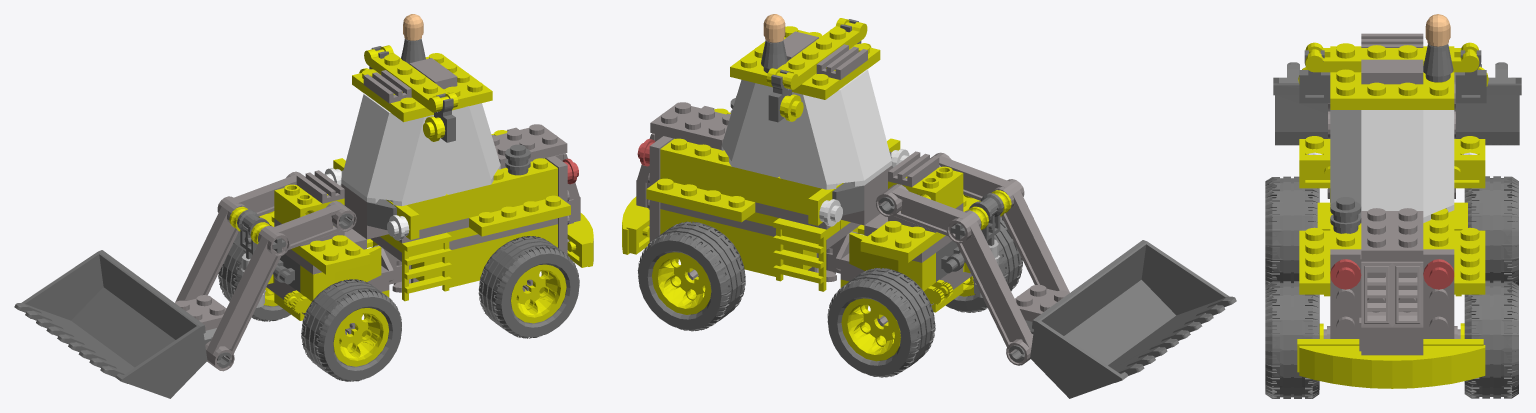
The model's file is excavator.fbx.
3 renders of one model, left to right at view 1: azimuth 30°, elevation 25°; view 2: azimuth 150°, elevation 25°; view 3: azimuth 270°, elevation 25°, orthographic. The views are drawn at different scales.
Visible parts, largest first — view 1: Excavator_Bucket__8_x__4_with_Click_Hinge_2-Finger__01, Windscreen__3_x__4_x__3__01, Technic_Link__4_x__6_Bent_53.13__01, Tyre_30.4_x_14_VR__01, Tyre_30.4_x_14_VR__04, Technic_Link__4_x__6_Bent_53.13__02, Windscreen__3_x__4_x__3__02, Plate__4_x__4__03, Plate__1_x__2_with_Ladder__01, Wheel_30.4_x_14_VR__04, Wheel_30.4_x_14_VR__01, Plate__4_x__6__01 (+26 smaller); view 2: Excavator_Bucket__8_x__4_with_Click_Hinge_2-Finger__01, Windscreen__3_x__4_x__3__01, Technic_Link__4_x__6_Bent_53.13__02, Tyre_30.4_x_14_VR__02, Tyre_30.4_x_14_VR__03, Technic_Link__4_x__6_Bent_53.13__01, Windscreen__3_x__4_x__3__02, Plate__1_x__2_with_Ladder__02, Wheel_30.4_x_14_VR__02, Wheel_30.4_x_14_VR__03, Plate__4_x__4__03, Plate__4_x__6__01 (+30 smaller); view 3: Windscreen__3_x__4_x__3__02, Excavator_Bucket__8_x__4_with_Click_Hinge_2-Finger__01, Tyre_30.4_x_14_VR__03, Tyre_30.4_x_14_VR__04, Tyre_30.4_x_14_VR__01, Tyre_30.4_x_14_VR__02, Plate__4_x__4__02, Plate__4_x__6__01, Plate__4_x__4__03, Slope_Brick_Curved__3_x__1__02, Slope_Brick_Curved__3_x__1__01, Plate__2_x__3__04 (+24 smaller).
Part boxes in pixels (x1,y1,x2,y2): Excavator_Bucket__8_x__4_with_Click_Hinge_2-Finger__01: (14, 250, 207, 398); Windscreen__3_x__4_x__3__01: (341, 93, 446, 206); Technic_Link__4_x__6_Bent_53.13__01: (205, 201, 356, 371); Tyre_30.4_x_14_VR__01: (301, 279, 401, 381); Tyre_30.4_x_14_VR__04: (478, 236, 579, 338); Technic_Link__4_x__6_Bent_53.13__02: (175, 171, 305, 301); Windscreen__3_x__4_x__3__02: (446, 103, 500, 194); Plate__4_x__4__03: (352, 53, 492, 122); Plate__1_x__2_with_Ladder__01: (389, 232, 451, 301); Wheel_30.4_x_14_VR__04: (511, 264, 566, 323); Wheel_30.4_x_14_VR__01: (333, 308, 388, 366); Plate__4_x__6__01: (469, 195, 570, 236); Excavator_Bucket__8_x__4_with_Click_Hinge_2-Finger__01: (1030, 240, 1236, 398); Windscreen__3_x__4_x__3__01: (779, 69, 891, 189); Technic_Link__4_x__6_Bent_53.13__02: (876, 184, 1033, 365); Tyre_30.4_x_14_VR__02: (827, 267, 935, 377); Tyre_30.4_x_14_VR__03: (637, 221, 745, 331); Technic_Link__4_x__6_Bent_53.13__01: (930, 152, 1069, 292); Windscreen__3_x__4_x__3__02: (721, 79, 779, 177); Plate__1_x__2_with_Ladder__02: (773, 218, 839, 291); Wheel_30.4_x_14_VR__02: (841, 298, 900, 361); Wheel_30.4_x_14_VR__03: (652, 252, 711, 314); Plate__4_x__4__03: (730, 26, 880, 99); Plate__4_x__6__01: (646, 178, 755, 222); Windscreen__3_x__4_x__3__02: (1330, 110, 1454, 222); Excavator_Bucket__8_x__4_with_Click_Hinge_2-Finger__01: (1273, 62, 1521, 145); Tyre_30.4_x_14_VR__03: (1464, 280, 1518, 398); Tyre_30.4_x_14_VR__04: (1265, 281, 1319, 398); Tyre_30.4_x_14_VR__01: (1265, 176, 1319, 285); Tyre_30.4_x_14_VR__02: (1464, 176, 1518, 285); Plate__4_x__4__02: (1330, 249, 1454, 338); Plate__4_x__6__01: (1299, 227, 1485, 294); Plate__4_x__4__03: (1330, 43, 1454, 109); Slope_Brick_Curved__3_x__1__02: (1392, 345, 1485, 388); Slope_Brick_Curved__3_x__1__01: (1299, 346, 1392, 388); Plate__2_x__3__04: (1361, 208, 1423, 261).
Size of the model in its own units: 1853 by 982 by 660.
